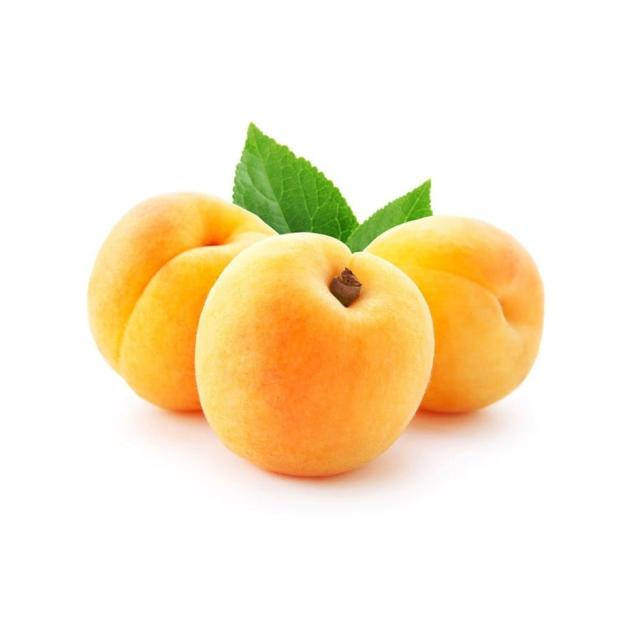kayisi: (192, 231, 438, 482), (86, 191, 279, 415), (373, 215, 545, 417)
kayisiyapragi: (232, 125, 432, 253)
